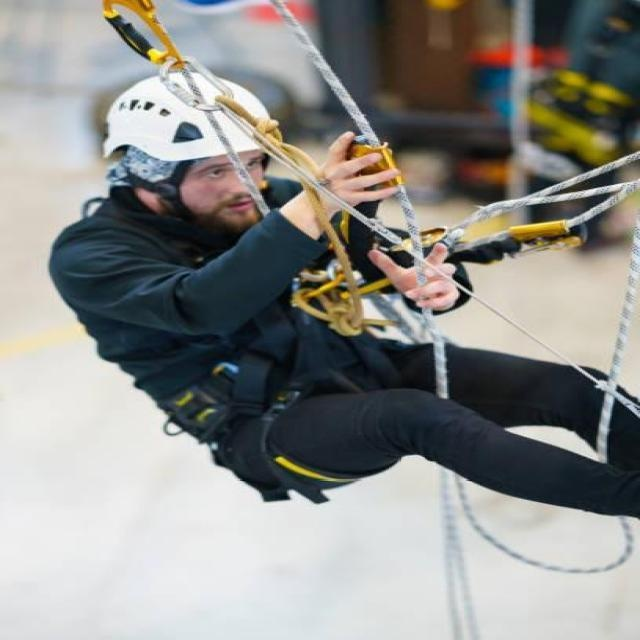Arnes_seguridad: (46, 176, 426, 507)
